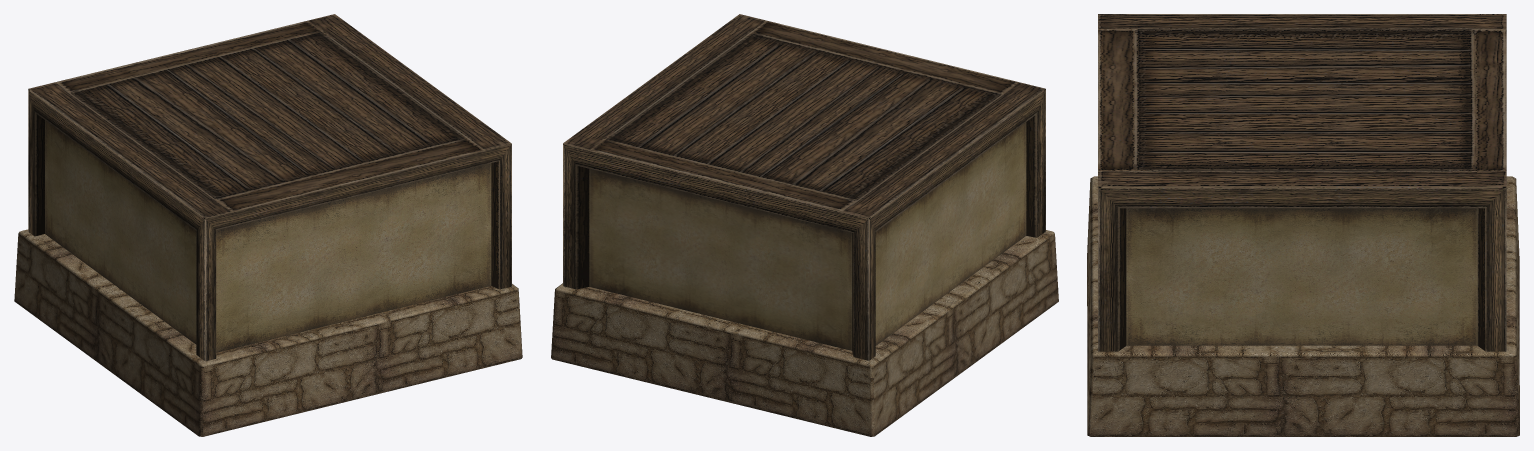
File: House_6X6_02a.fbx
The picture shows the model from 3 angles, left to right: view 1: azimuth 30°, elevation 25°; view 2: azimuth 150°, elevation 25°; view 3: azimuth 270°, elevation 25°; orthographic projection. The views are drawn at different scales.
Visible parts, largest first — view 1: House_6X6_02a; view 2: House_6X6_02a; view 3: House_6X6_02a.
Boxes of the visible parts, x1,y1,x2,y2 form: House_6X6_02a: [14, 14, 522, 436]; House_6X6_02a: [551, 14, 1058, 436]; House_6X6_02a: [1087, 14, 1519, 436].
Size of the model in its own units: 6.34 by 3.99 by 6.36.
